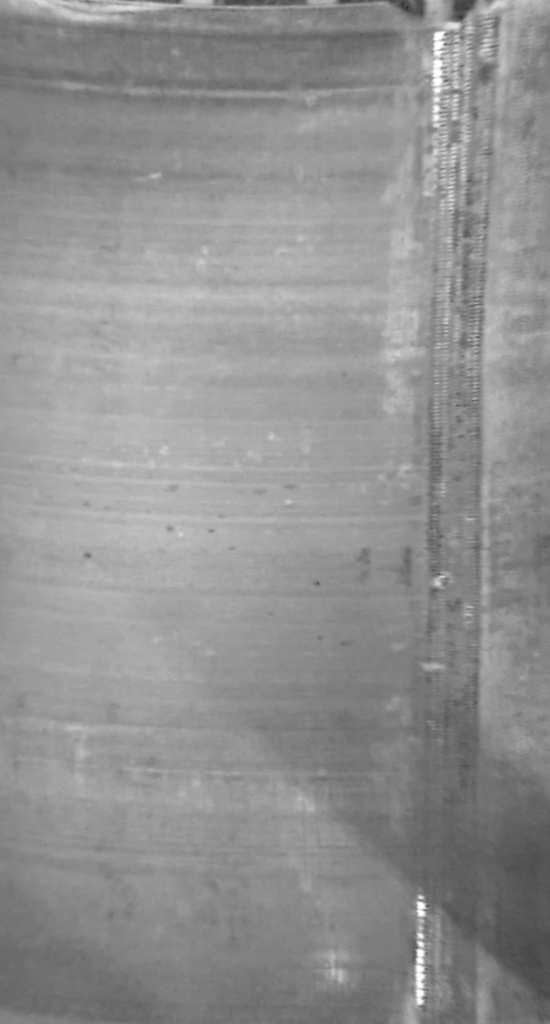splice: (408, 1, 511, 1023)
